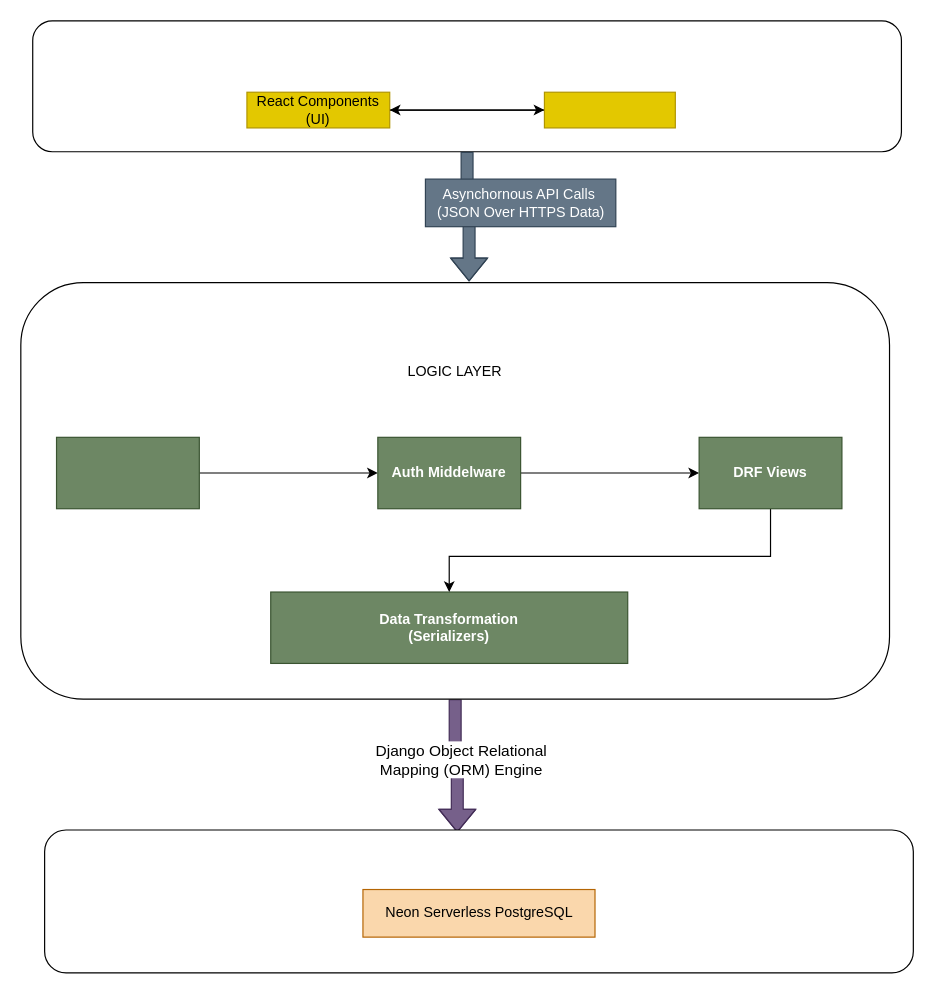
The diagram is 934 pixels wide and 994 high, and some of its shapes have lost their labels. The box of each missing label's shape, as (x1, y1, x2, y2) in pixels:
Axios Client Wrapper: (543, 91, 675, 128)
PERSISTENCE LAYER: (43, 829, 913, 973)
PRESENTATION LAYER: (32, 20, 901, 152)
URL Router: (55, 436, 199, 509)
